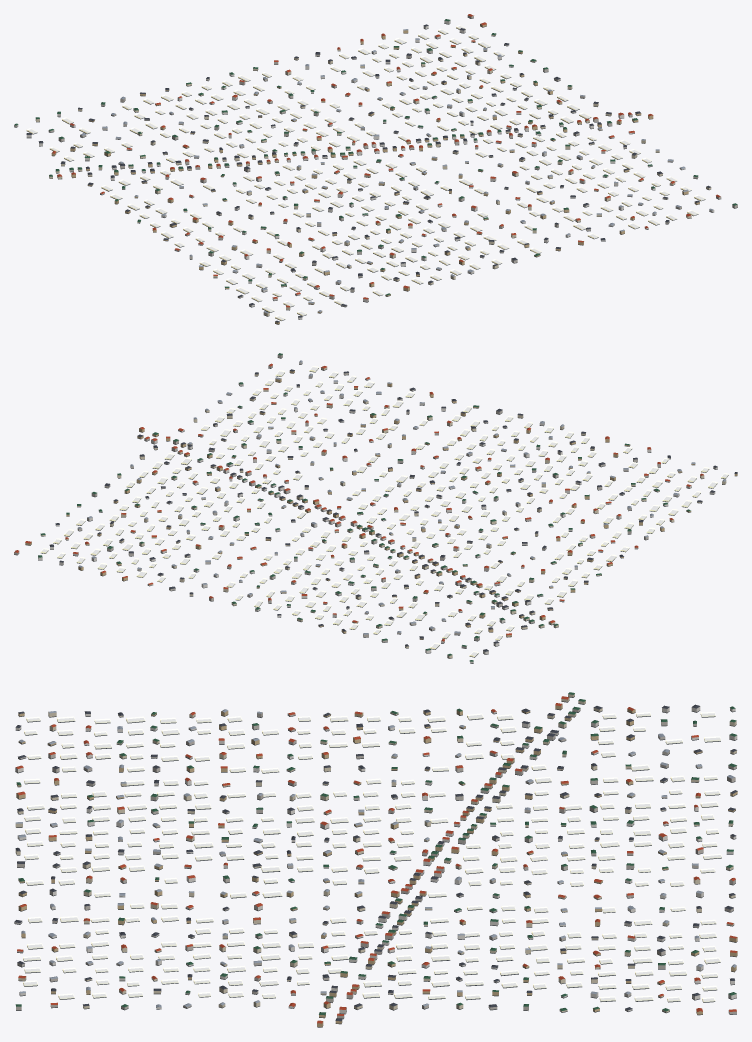
Rendered from buildings_T_E09_S02.glb.
3 renders of one model, top to bottom at view 1: azimuth 30°, elevation 25°; view 2: azimuth 150°, elevation 25°; view 3: azimuth 270°, elevation 25°, orthographic. The views are drawn at different scales.
Parts seen in each view (by area): view 1: T_E09_S02_roofs_agri_greenhouse_arch, T_E09_S02_slope_seating_foundations, T_E09_S02_walls_wall_french_ochre_villa, T_E09_S02_walls_wall_dalat_cream_stucco, T_E09_S02_roofs_roof_slate_French_villa_hip, T_E09_S02_walls_wall_modern_warm_white, T_E09_S02_walls_wall_pastel_sand_gray, T_E09_S02_roofs_roof_terracotta_gable, T_E09_S02_roofs_roof_pine_green_hip, T_E09_S02_roofs_roof_zinc_silver_gable; view 2: T_E09_S02_roofs_agri_greenhouse_arch, T_E09_S02_slope_seating_foundations, T_E09_S02_walls_wall_french_ochre_villa, T_E09_S02_walls_wall_dalat_cream_stucco, T_E09_S02_walls_wall_modern_warm_white, T_E09_S02_roofs_roof_slate_French_villa_hip, T_E09_S02_walls_wall_pastel_sand_gray, T_E09_S02_roofs_roof_terracotta_gable, T_E09_S02_roofs_roof_pine_green_hip, T_E09_S02_roofs_roof_zinc_silver_gable; view 3: T_E09_S02_roofs_agri_greenhouse_arch, T_E09_S02_slope_seating_foundations, T_E09_S02_walls_wall_french_ochre_villa, T_E09_S02_walls_wall_dalat_cream_stucco, T_E09_S02_roofs_roof_slate_French_villa_hip, T_E09_S02_walls_wall_modern_warm_white, T_E09_S02_walls_wall_pastel_sand_gray, T_E09_S02_roofs_roof_terracotta_gable, T_E09_S02_roofs_roof_pine_green_hip, T_E09_S02_roofs_roof_zinc_silver_gable.
Boxes of the visible parts, x1,y1,x2,y2 form: T_E09_S02_roofs_agri_greenhouse_arch: [26, 25, 705, 320]; T_E09_S02_slope_seating_foundations: [14, 17, 737, 324]; T_E09_S02_walls_wall_french_ochre_villa: [51, 24, 699, 324]; T_E09_S02_walls_wall_dalat_cream_stucco: [35, 34, 711, 316]; T_E09_S02_roofs_roof_slate_French_villa_hip: [26, 24, 710, 322]; T_E09_S02_walls_wall_modern_warm_white: [14, 20, 714, 319]; T_E09_S02_walls_wall_pastel_sand_gray: [48, 15, 737, 306]; T_E09_S02_roofs_roof_terracotta_gable: [51, 14, 720, 307]; T_E09_S02_roofs_roof_pine_green_hip: [14, 19, 737, 295]; T_E09_S02_roofs_roof_zinc_silver_gable: [80, 29, 713, 313]; T_E09_S02_roofs_agri_greenhouse_arch: [40, 366, 728, 656]; T_E09_S02_slope_seating_foundations: [14, 357, 736, 663]; T_E09_S02_walls_wall_french_ochre_villa: [25, 370, 737, 639]; T_E09_S02_walls_wall_dalat_cream_stucco: [40, 367, 726, 658]; T_E09_S02_walls_wall_modern_warm_white: [38, 361, 717, 663]; T_E09_S02_roofs_roof_slate_French_villa_hip: [49, 369, 737, 651]; T_E09_S02_walls_wall_pastel_sand_gray: [14, 354, 670, 648]; T_E09_S02_roofs_roof_terracotta_gable: [14, 363, 703, 641]; T_E09_S02_roofs_roof_pine_green_hip: [38, 353, 690, 661]; T_E09_S02_roofs_roof_zinc_silver_gable: [78, 360, 725, 634]; T_E09_S02_roofs_agri_greenhouse_arch: [23, 711, 721, 1002]; T_E09_S02_slope_seating_foundations: [14, 696, 737, 1027]; T_E09_S02_walls_wall_french_ochre_villa: [16, 704, 737, 1027]; T_E09_S02_walls_wall_dalat_cream_stucco: [15, 693, 736, 1012]; T_E09_S02_roofs_roof_slate_French_villa_hip: [14, 704, 737, 1021]; T_E09_S02_walls_wall_modern_warm_white: [14, 706, 737, 1013]; T_E09_S02_walls_wall_pastel_sand_gray: [16, 708, 736, 1018]; T_E09_S02_roofs_roof_terracotta_gable: [15, 696, 737, 1023]; T_E09_S02_roofs_roof_pine_green_hip: [15, 692, 736, 1015]; T_E09_S02_roofs_roof_zinc_silver_gable: [15, 709, 736, 1007].
Size of the model in its own units: 1936 by 39.98 by 1755.
